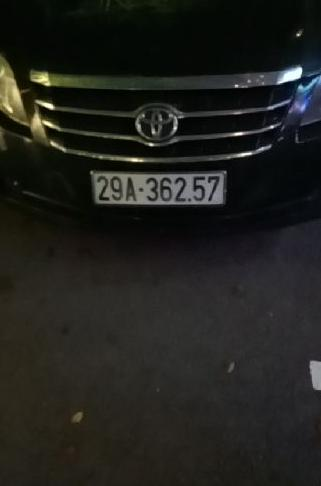Plate-iWeP: (92, 167, 228, 209)
